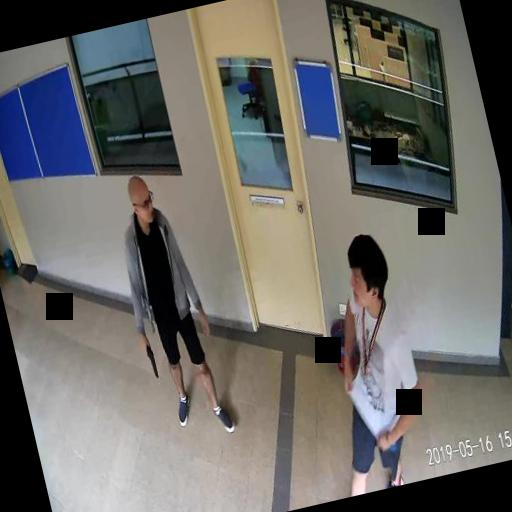Handgun: (140, 341, 158, 379)
